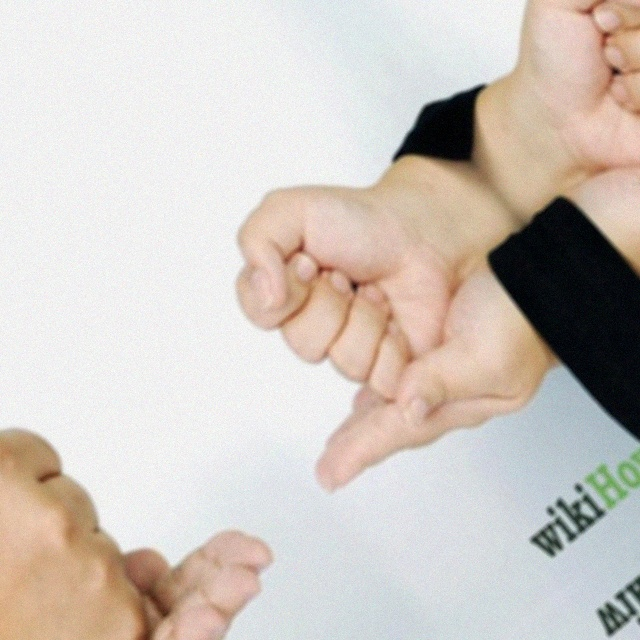Rock: (0, 381, 194, 640), (0, 536, 6, 640)
